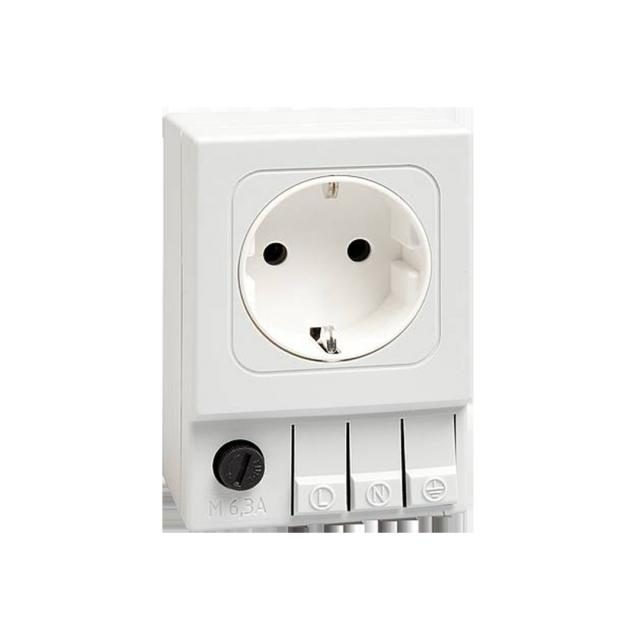typeb: (150, 84, 495, 400)
